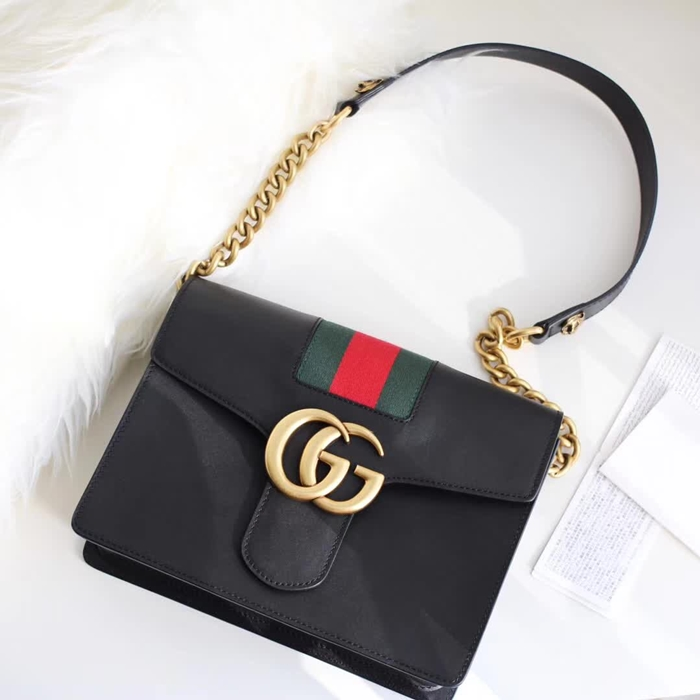Gucci: (84, 268, 575, 697), (247, 388, 396, 534), (288, 326, 441, 431)
